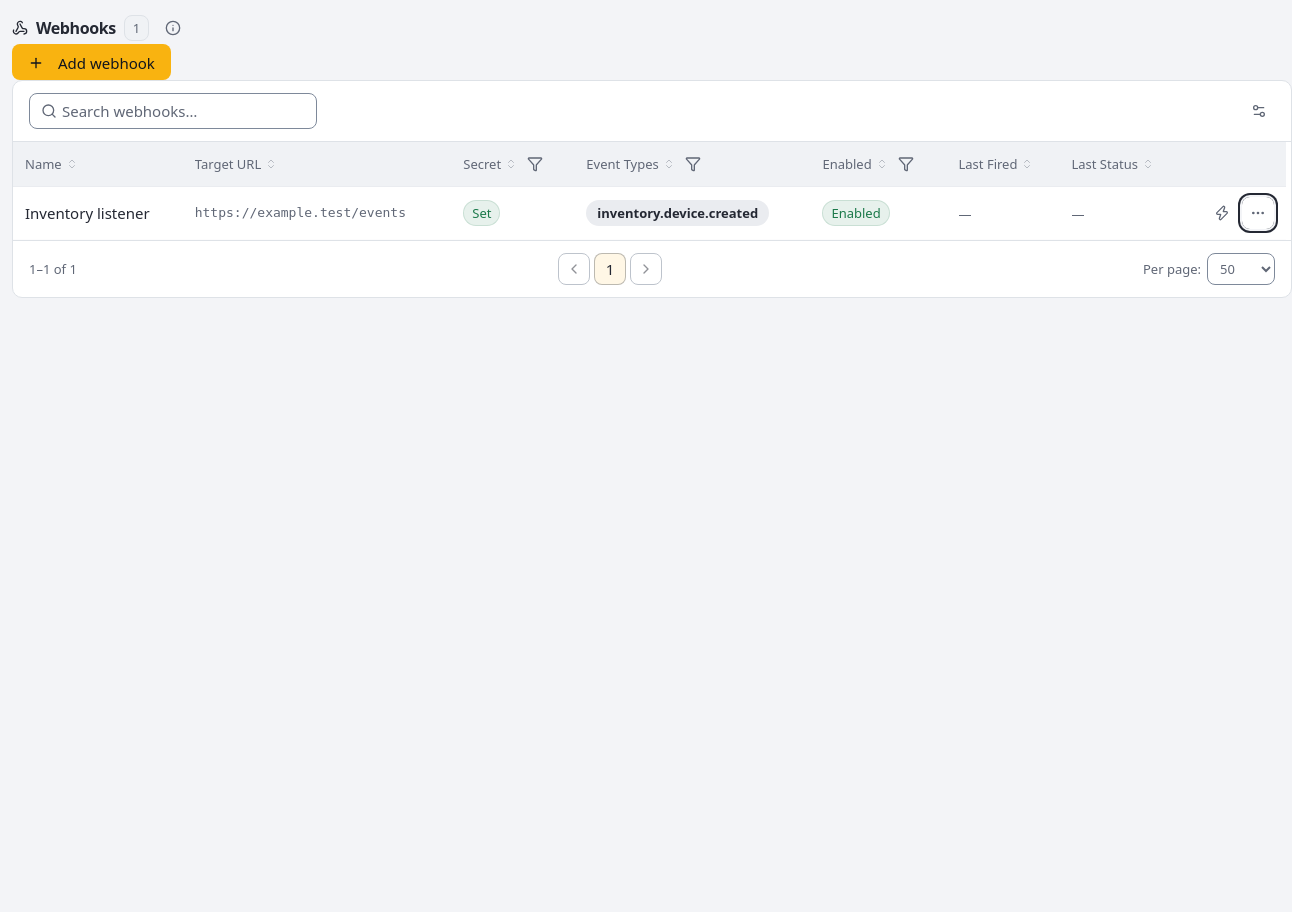
Test: WebhooksPage mutation lifetime and access › cancels editing and restores focus to the row menu
The width and height of the screenshot is (1292, 912).
Press Enter in the button named "Actions: Inventory listener", box 1242,197 -> 1274,229
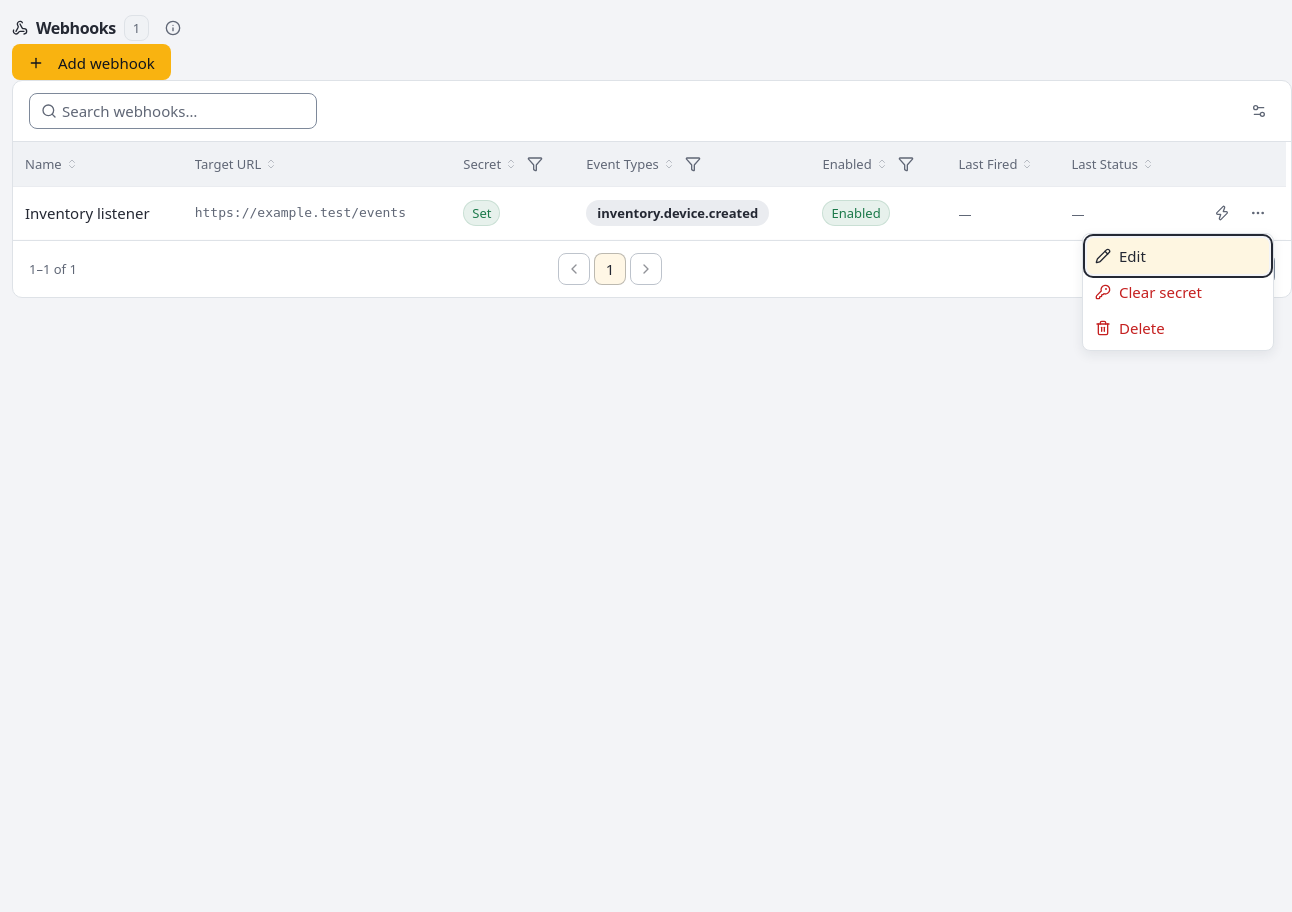
Click the menu item "Edit".
click(1178, 256)  # box 1087,238 -> 1269,274
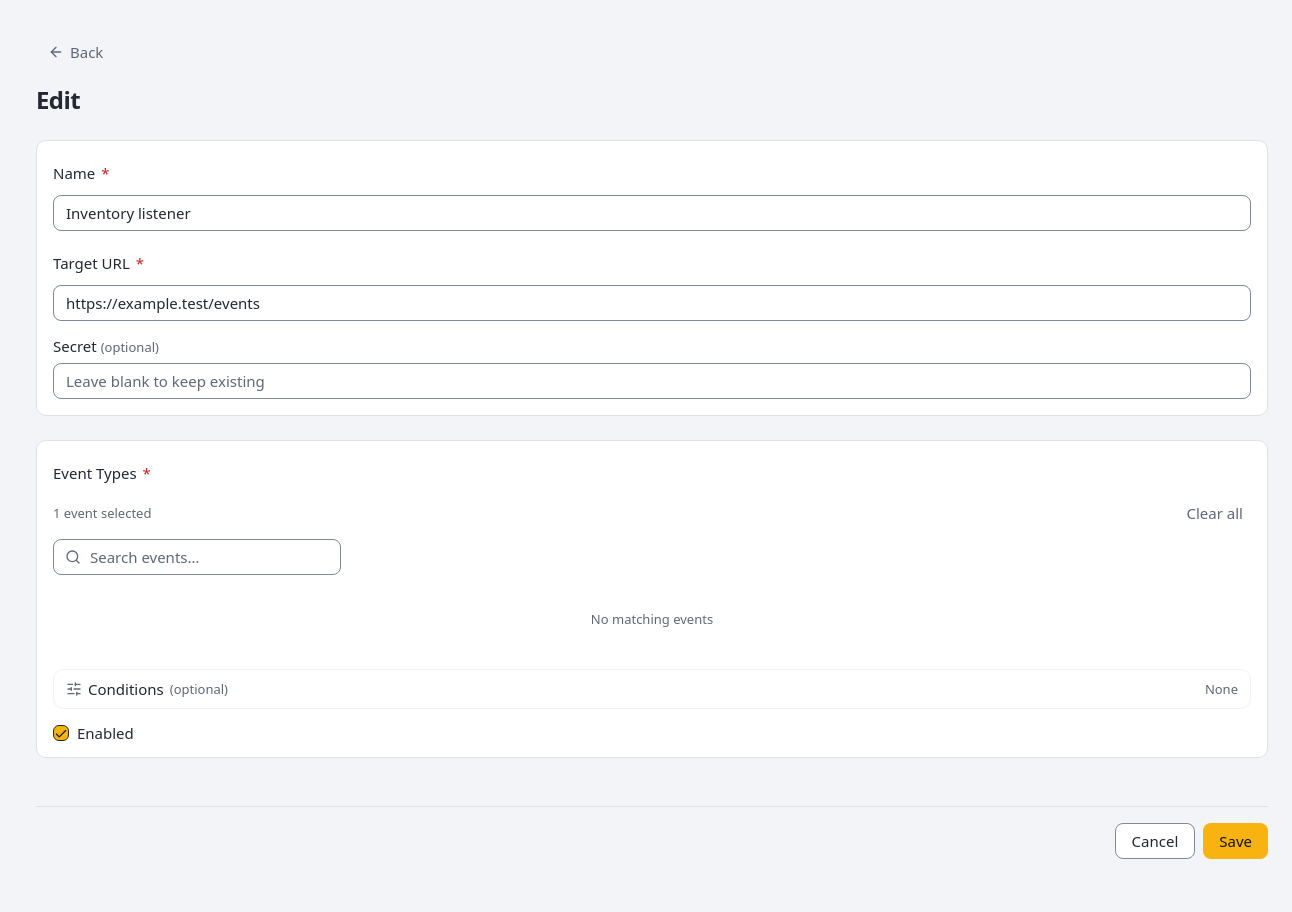
Click the button "Cancel".
click(1155, 841)  # box 1115,823 -> 1195,859
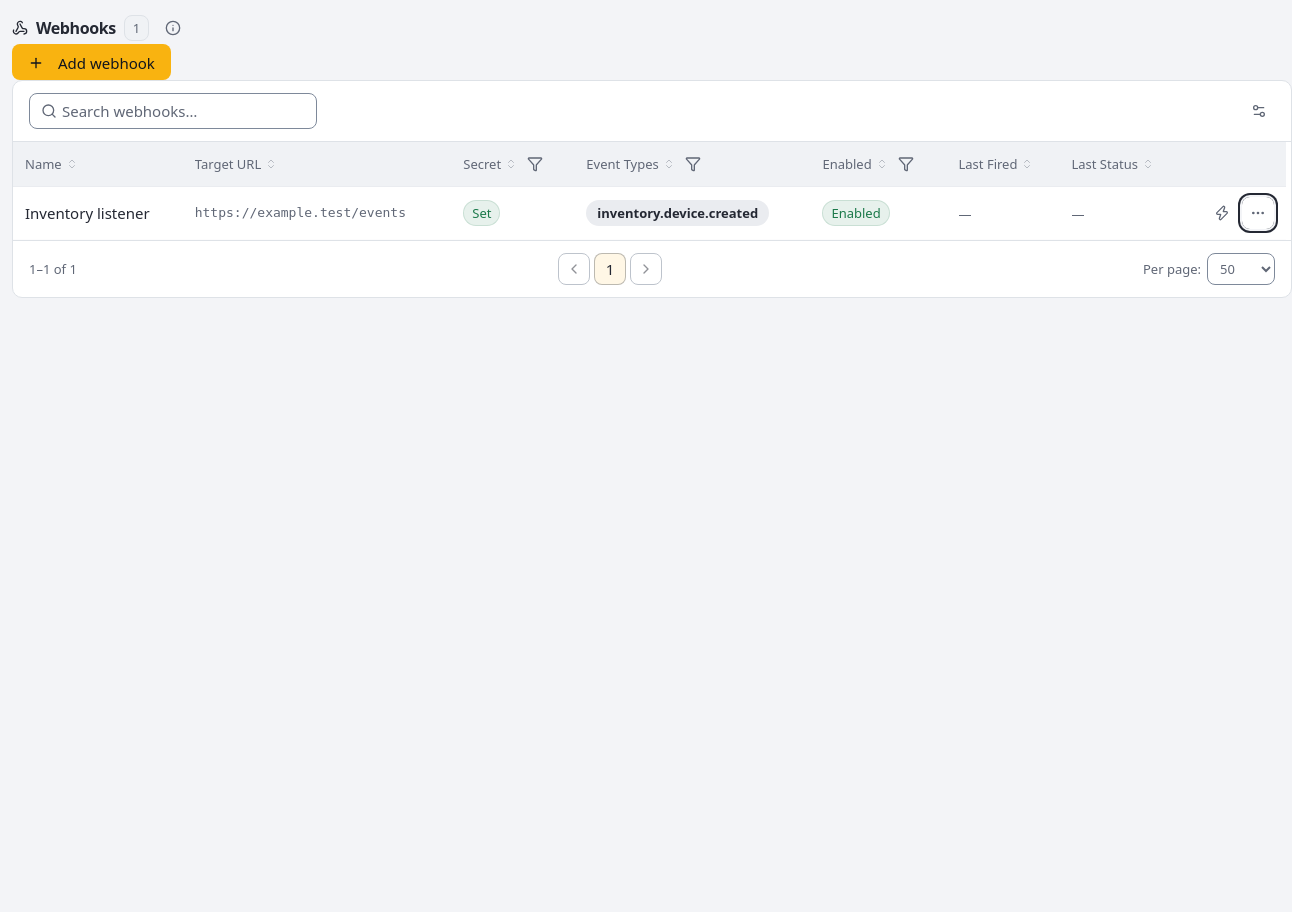
Check: the element with test id "entity-editor-page" is gone
